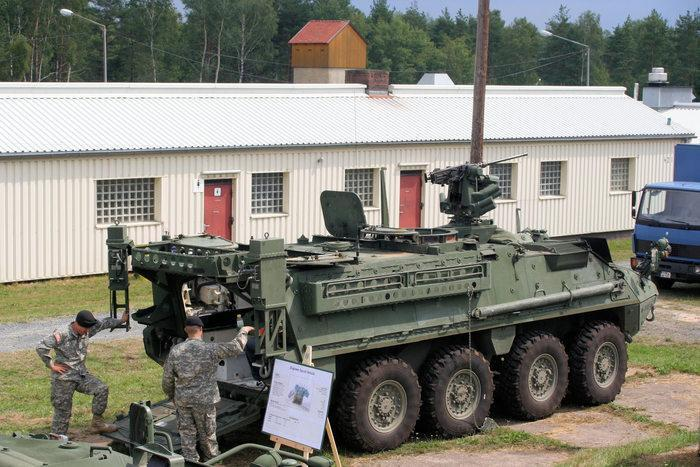MIL_IFV: (99, 153, 661, 457)
